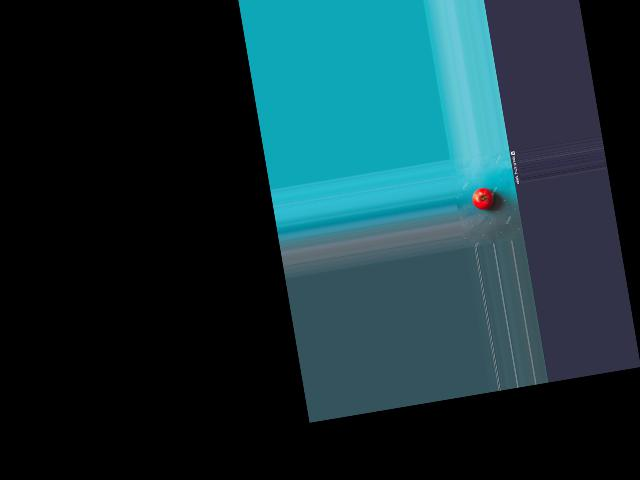tomato: (470, 186, 495, 211)
